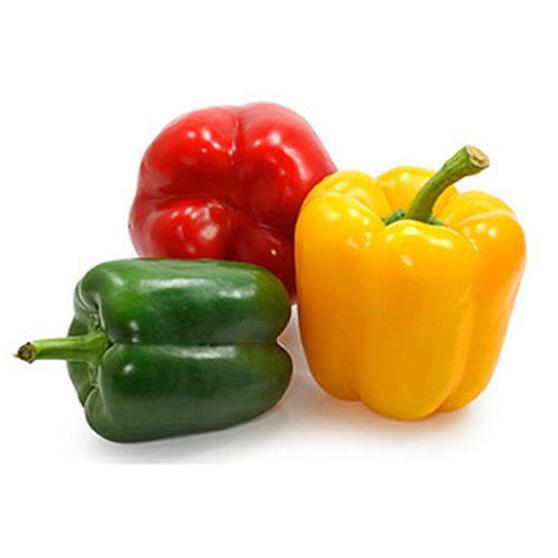pepper: (115, 97, 345, 284)
